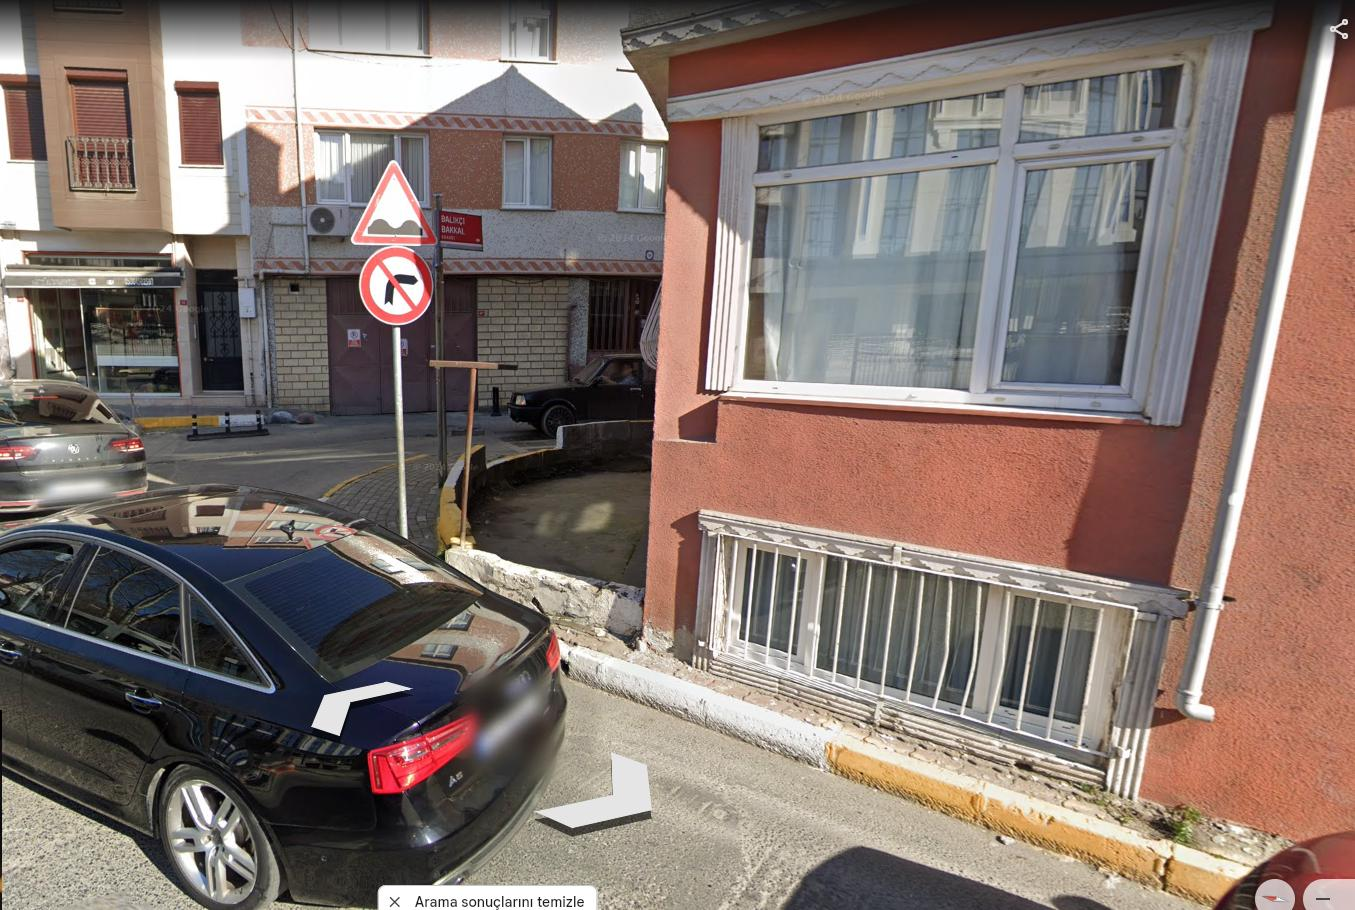rightturnsareforbidden: (356, 241, 429, 321)
